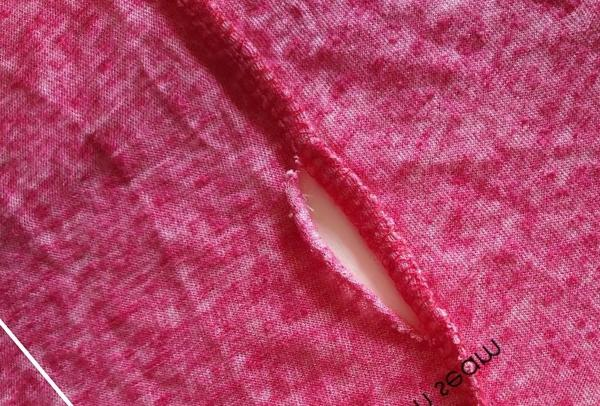hole: (289, 152, 435, 348)
